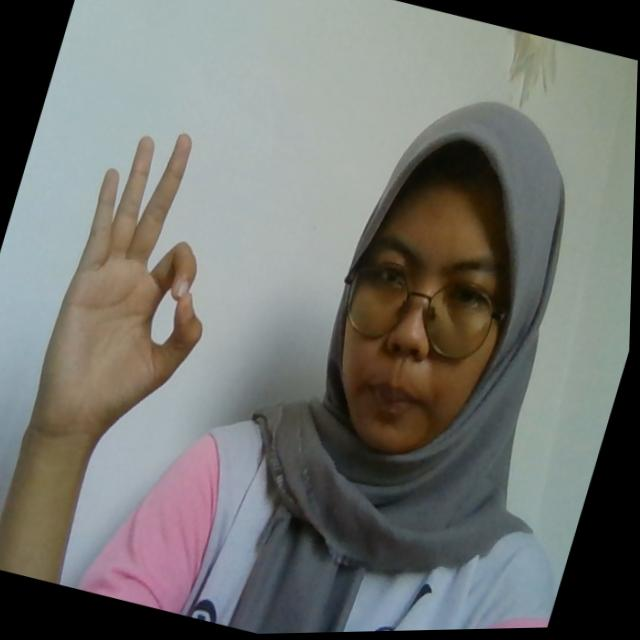F: (25, 109, 260, 460)
